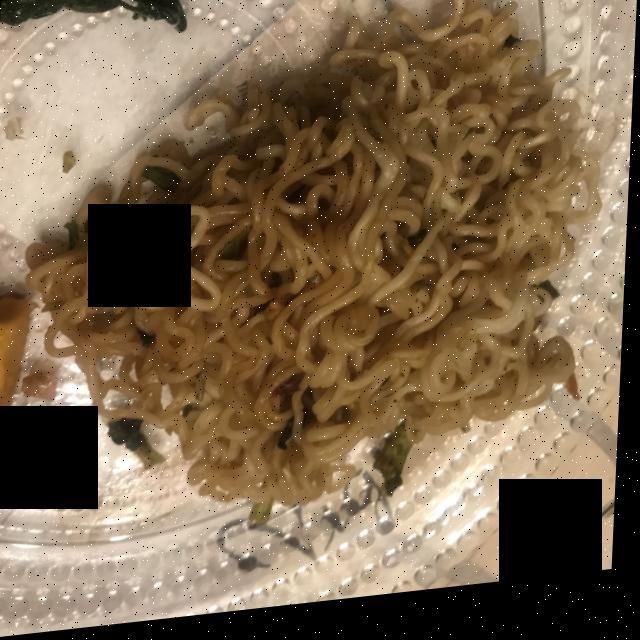pasta-noodles: (46, 0, 582, 514)
